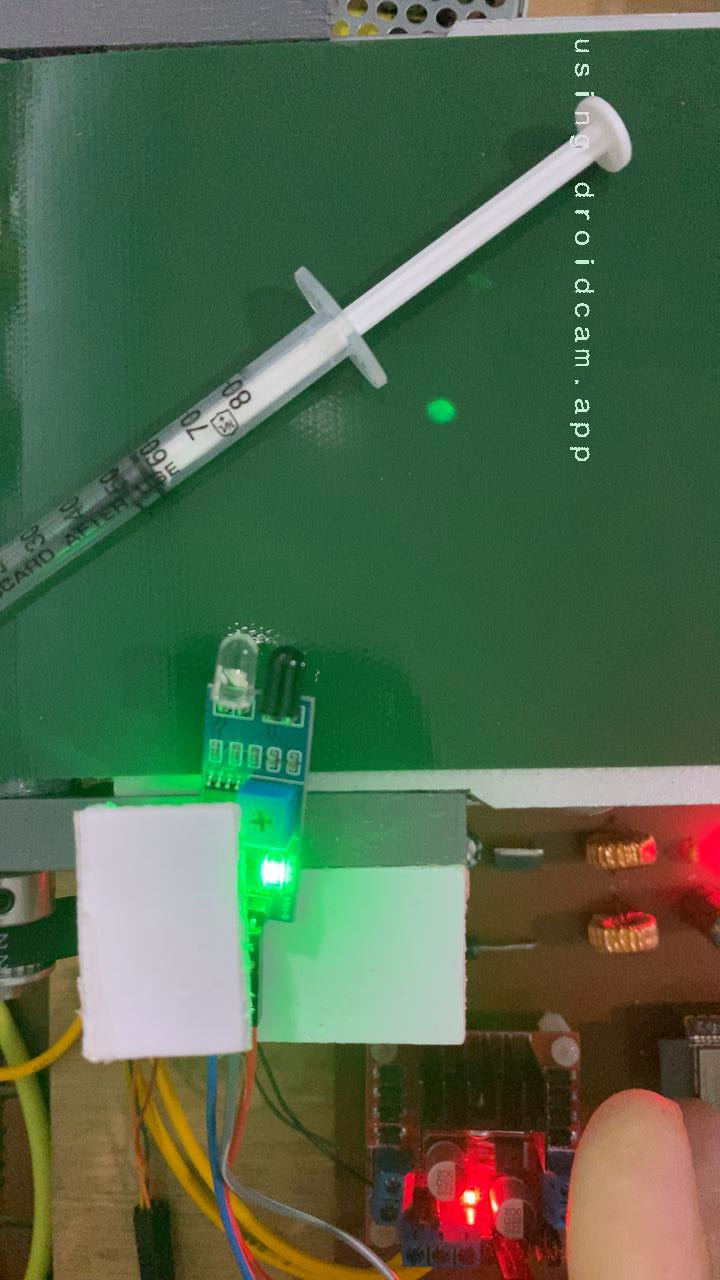syringe: (138, 85, 641, 488)
